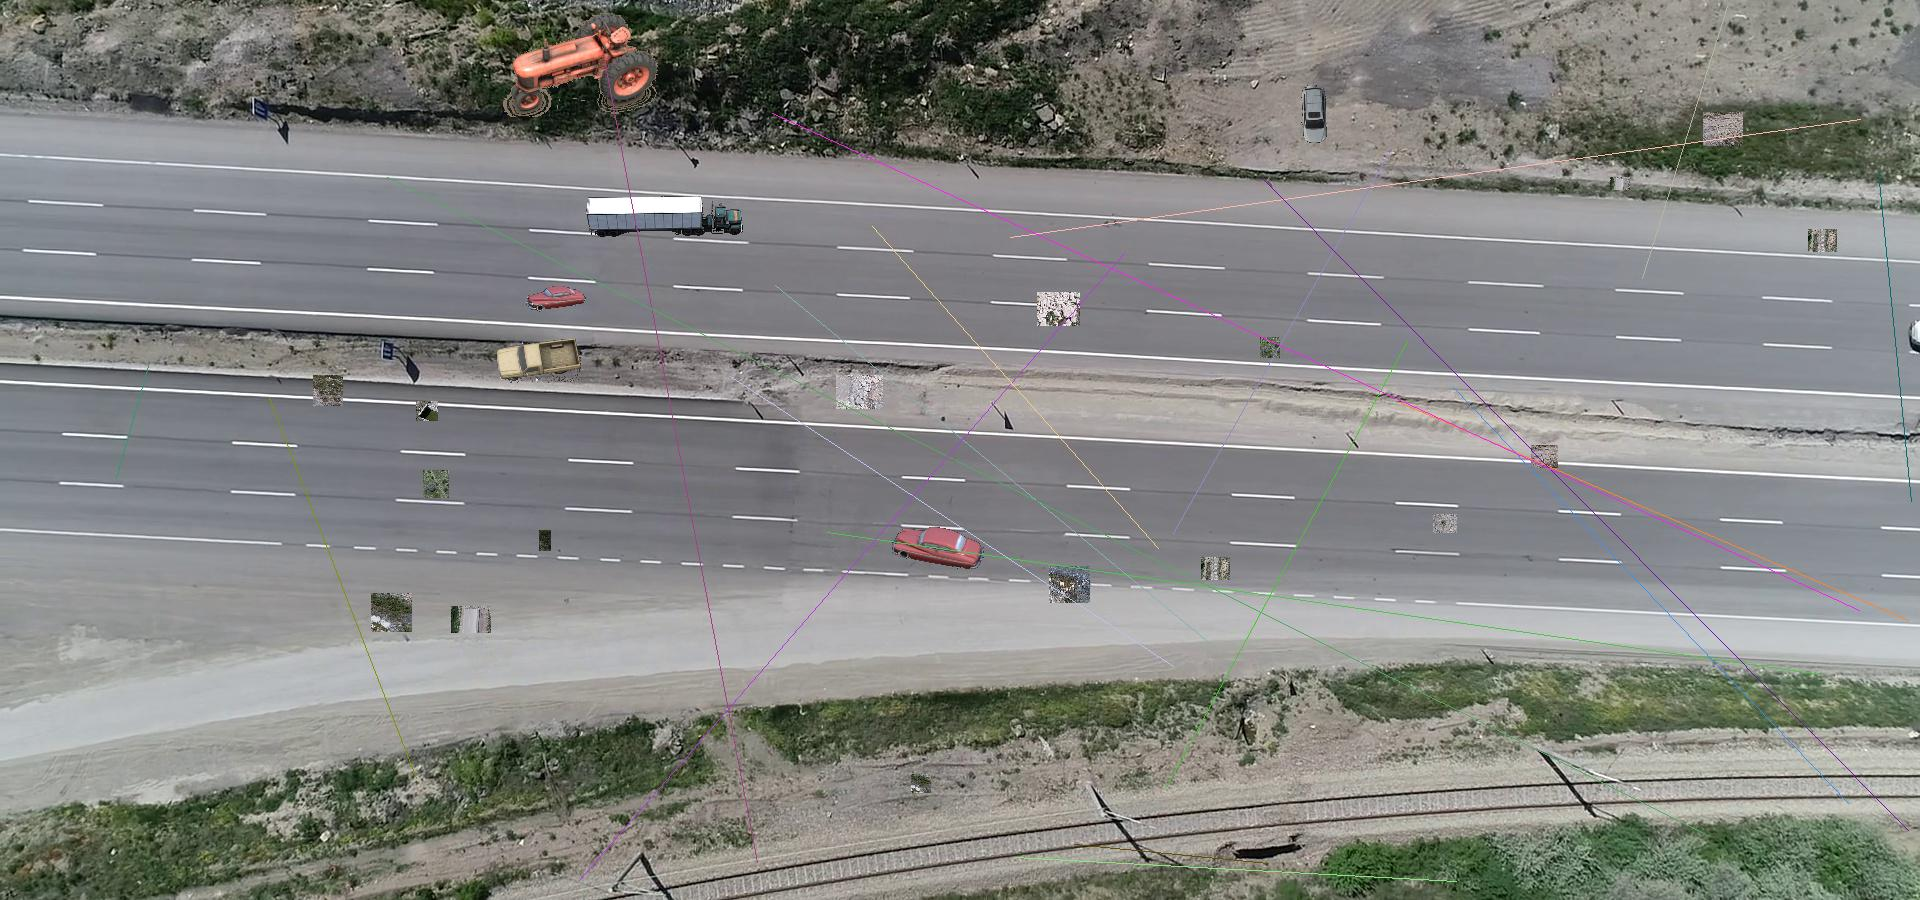arac: (502, 12, 662, 118), (584, 195, 743, 238), (891, 527, 984, 571), (497, 339, 580, 383), (1299, 84, 1329, 143), (525, 287, 587, 312)
